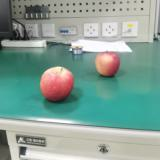apple: (40, 64, 74, 103), (95, 51, 120, 77)
